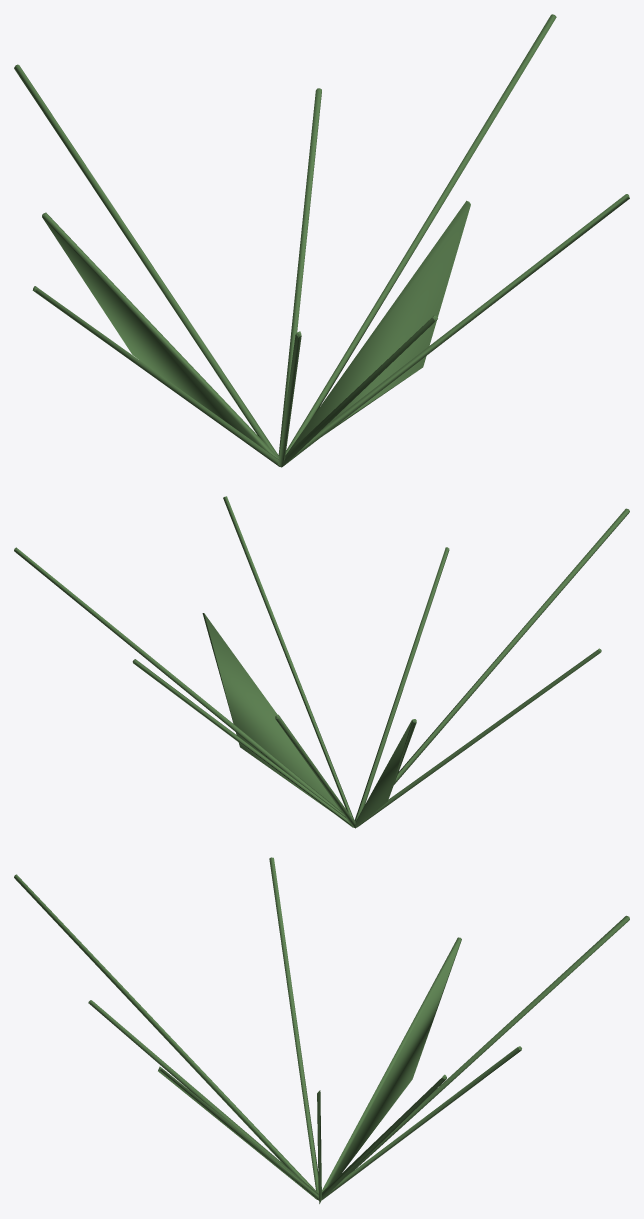
The model's file is fern_low.glb.
The picture shows the model from 3 angles, top to bottom: view 1: azimuth 30°, elevation 25°; view 2: azimuth 150°, elevation 25°; view 3: azimuth 270°, elevation 25°; orthographic projection. The views are drawn at different scales.
Parts seen in each view (by area): view 1: Forest_fern; view 2: Forest_fern; view 3: Forest_fern.
Part boxes in pixels (x1,y1,x2,y2): Forest_fern: (14,14,629,467); Forest_fern: (14,496,629,828); Forest_fern: (14,857,629,1203).
Size of the model in its own units: 1.65 by 0.7961 by 1.65.
